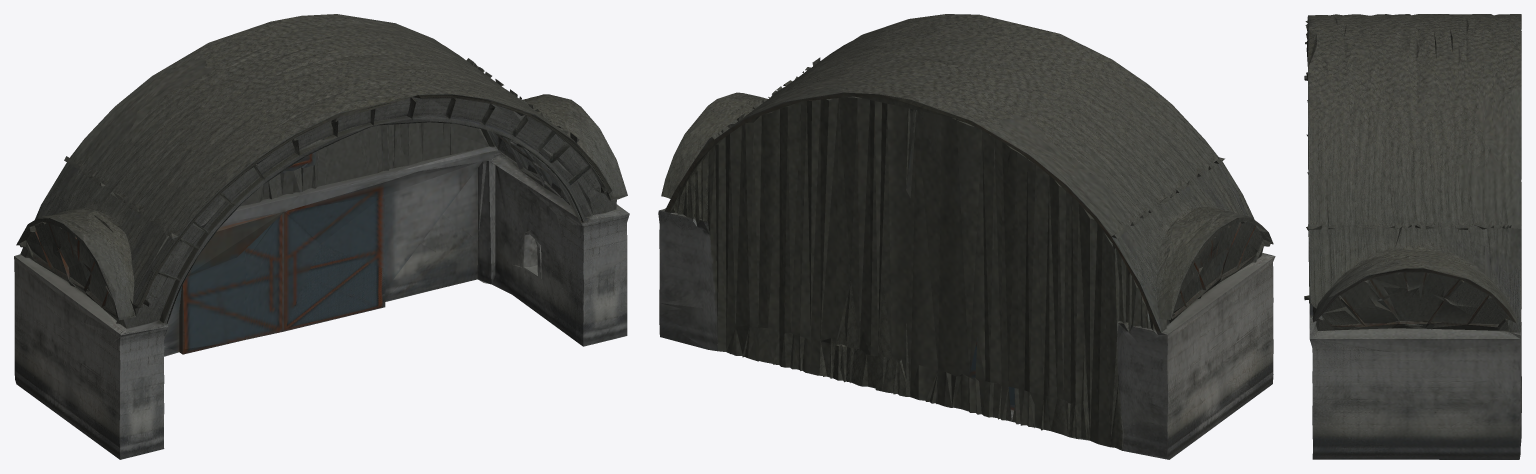
The model's file is hangar.glb.
3 renders of one model, left to right at view 1: azimuth 30°, elevation 25°; view 2: azimuth 150°, elevation 25°; view 3: azimuth 270°, elevation 25°, orthographic.
Size of the model in its own units: 1.9 by 1.07 by 0.7158.
1 material, 1 textured.
